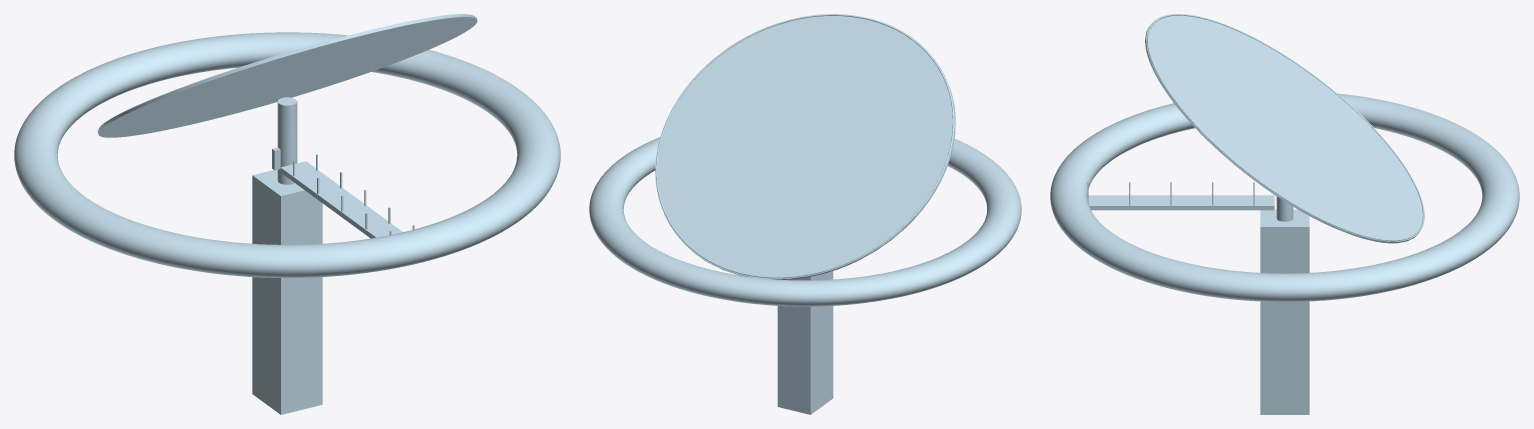
The model's file is stage_excavate_lod1.glb.
3 renders of one model, left to right at view 1: azimuth 30°, elevation 25°; view 2: azimuth 150°, elevation 25°; view 3: azimuth 270°, elevation 25°, orthographic. The views are drawn at different scales.
Visible parts, largest first — view 1: Spoil berm, Solar disc, Pod container, Bridge deck, Hatch column, Solar rim; view 2: Solar disc, Spoil berm, Pod container, Solar rim; view 3: Solar disc, Spoil berm, Pod container, Bridge deck, Solar rim.
Part boxes in pixels (x1=…): Spoil berm: x1=14, y1=32, x2=560, y2=277; Solar disc: x1=97, y1=14, x2=477, y2=137; Pod container: x1=252, y1=170, x2=322, y2=414; Bridge deck: x1=280, y1=161, x2=402, y2=238; Hatch column: x1=277, y1=97, x2=297, y2=184; Solar rim: x1=98, y1=14, x2=472, y2=129; Solar disc: x1=655, y1=14, x2=955, y2=279; Spoil berm: x1=589, y1=137, x2=1021, y2=306; Pod container: x1=777, y1=271, x2=833, y2=414; Solar rim: x1=655, y1=14, x2=954, y2=278; Solar disc: x1=1145, y1=14, x2=1424, y2=243; Spoil berm: x1=1050, y1=93, x2=1519, y2=301; Pod container: x1=1260, y1=209, x2=1309, y2=414; Bridge deck: x1=1088, y1=195, x2=1274, y2=210; Solar rim: x1=1147, y1=14, x2=1424, y2=241.
Size of the model in its own units: 27.6 by 23.8 by 27.6.
